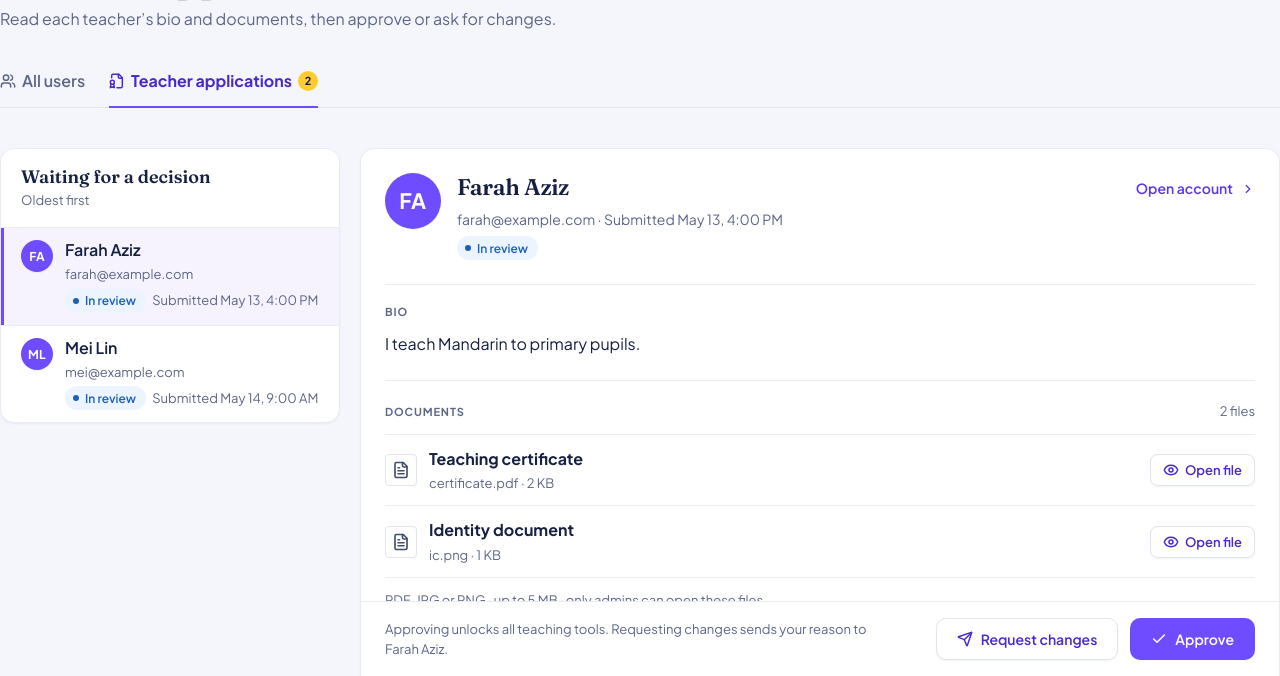
Test: AdminTeacherApplicationsPage › lists the waiting applications in the server’s oldest-first order and opens the oldest
Check: the element with test id "admin-applications-detail" shows "I teach Mandarin to primary pupils.", box [385,333,640,354]
Check: the element with test id "admin-applications-detail" shows "2 files", box [1220,403,1255,419]
Click the button with test id "admin-applications-item" that starts with "Mei Lin" at (170, 374), box [1,326,339,422]
(page scrolled)
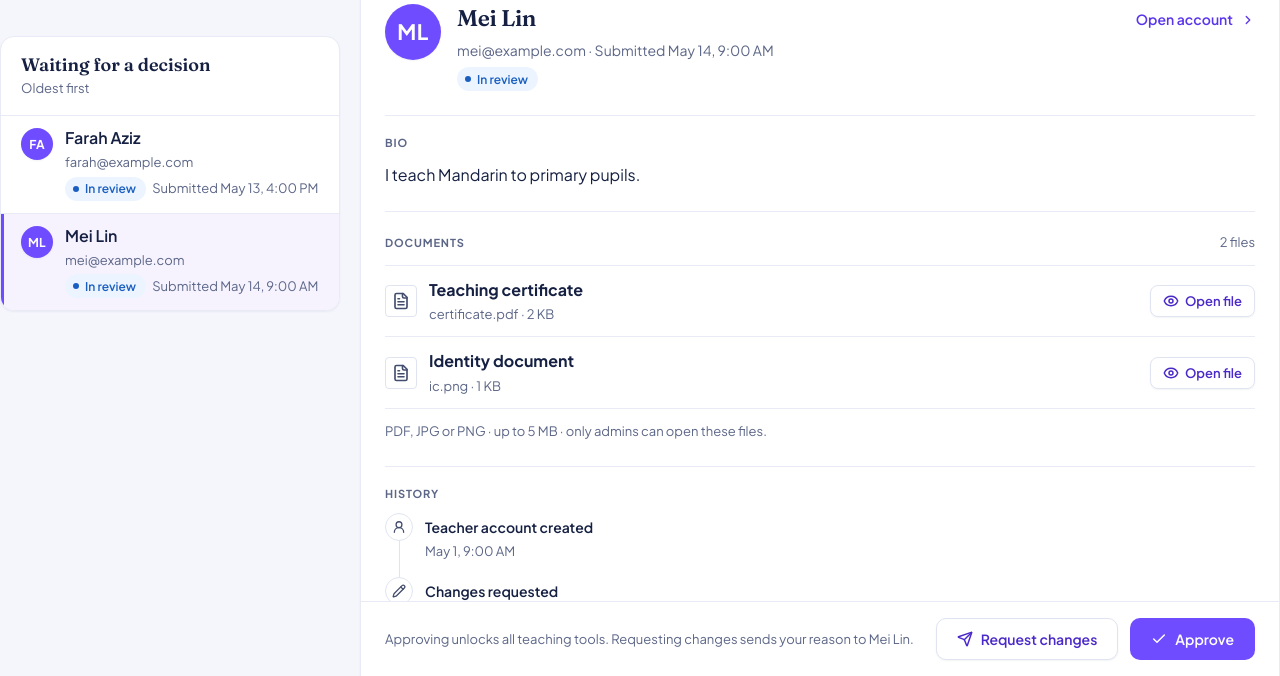
Check: the element with test id "admin-applications-detail" shows "Mei Lin", box [457,4,536,32]
